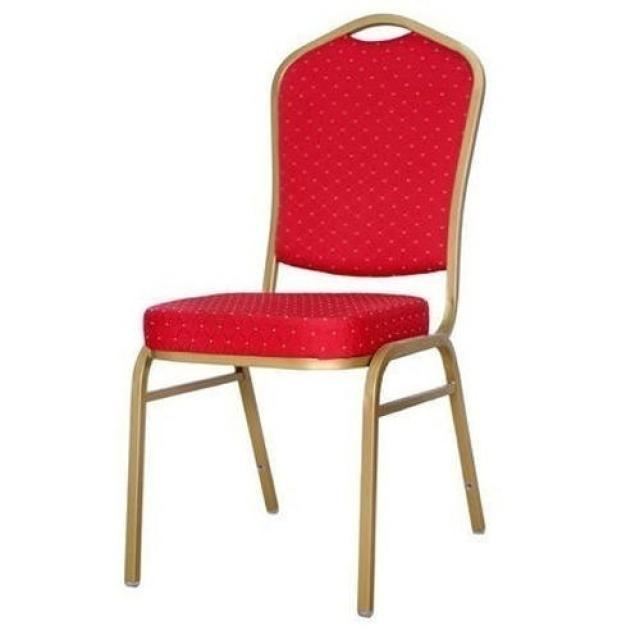chair: (118, 9, 492, 624)
